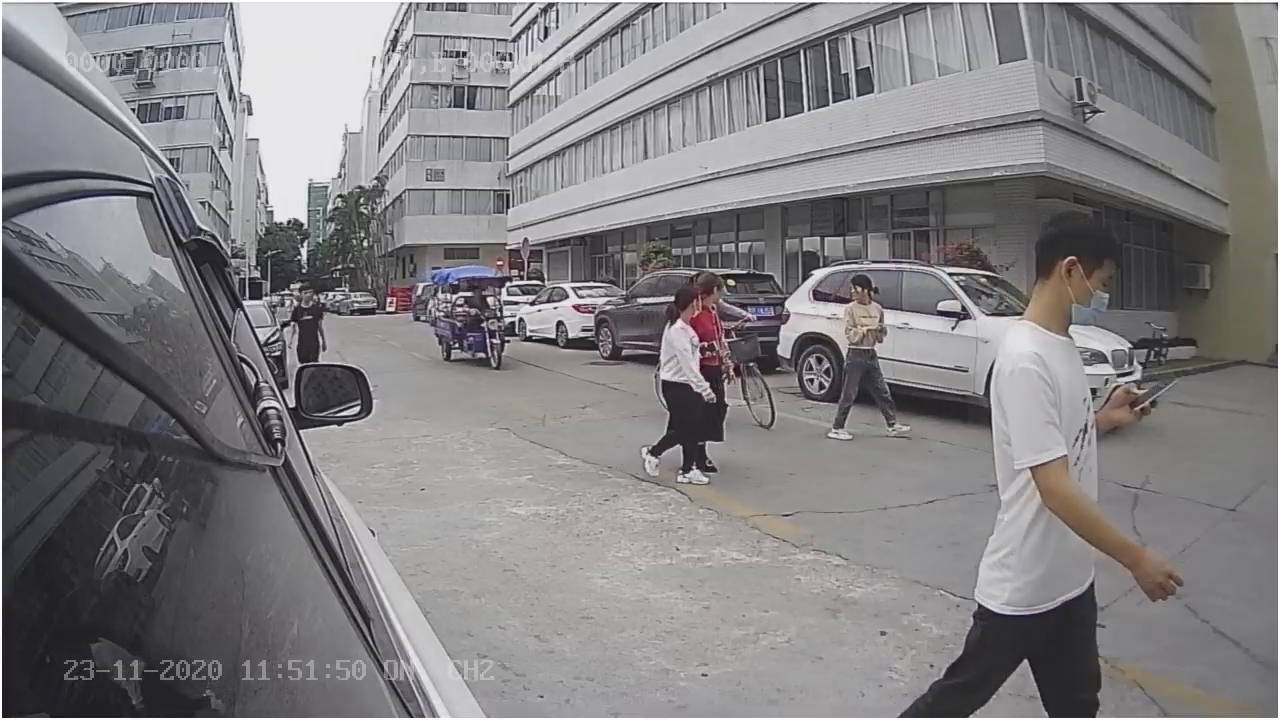person: (825, 270, 916, 445), (642, 285, 713, 488)
